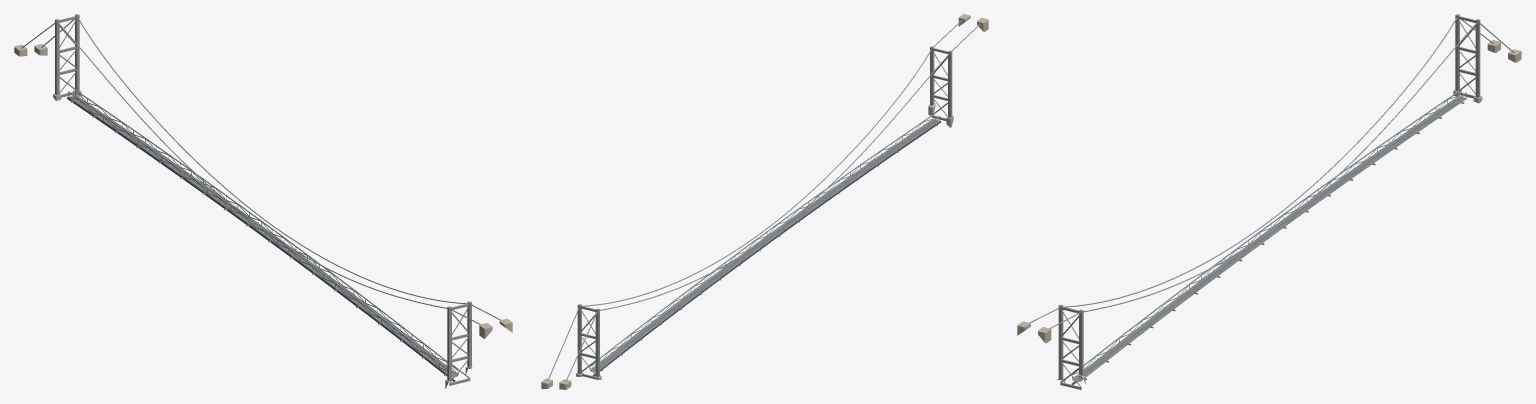
Rendered from grand-canyon-bright-angel-suspension-bridge.glb.
3 renders of one model, left to right at view 1: azimuth 30°, elevation 25°; view 2: azimuth 150°, elevation 25°; view 3: azimuth 330°, elevation 25°, orthographic. The views are drawn at different scales.
Parts seen in each view (by area): view 1: Bright Angel Suspension Bridge; view 2: Bright Angel Suspension Bridge; view 3: Bright Angel Suspension Bridge.
Part boxes in pixels (x1,y1,x2,y2): Bright Angel Suspension Bridge: (14,14,512,388); Bright Angel Suspension Bridge: (541,14,988,389); Bright Angel Suspension Bridge: (1017,14,1521,389).
Size of the model in its own units: 6.8 by 20.8 by 194.
